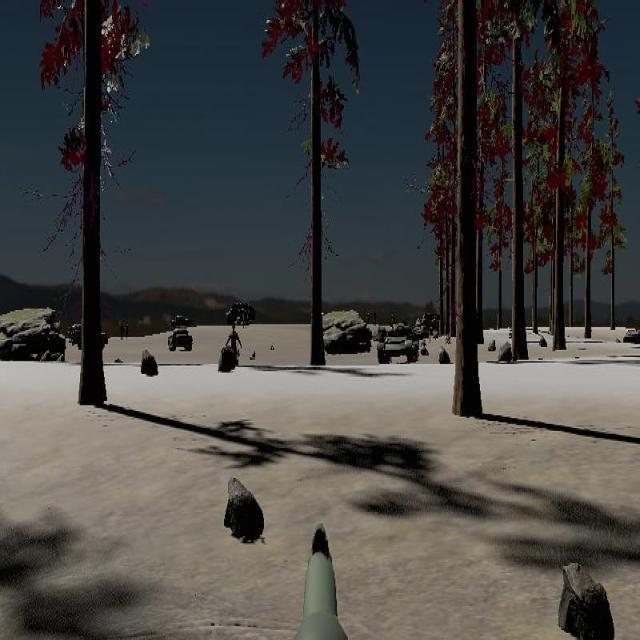Tank: (377, 322, 419, 364)
